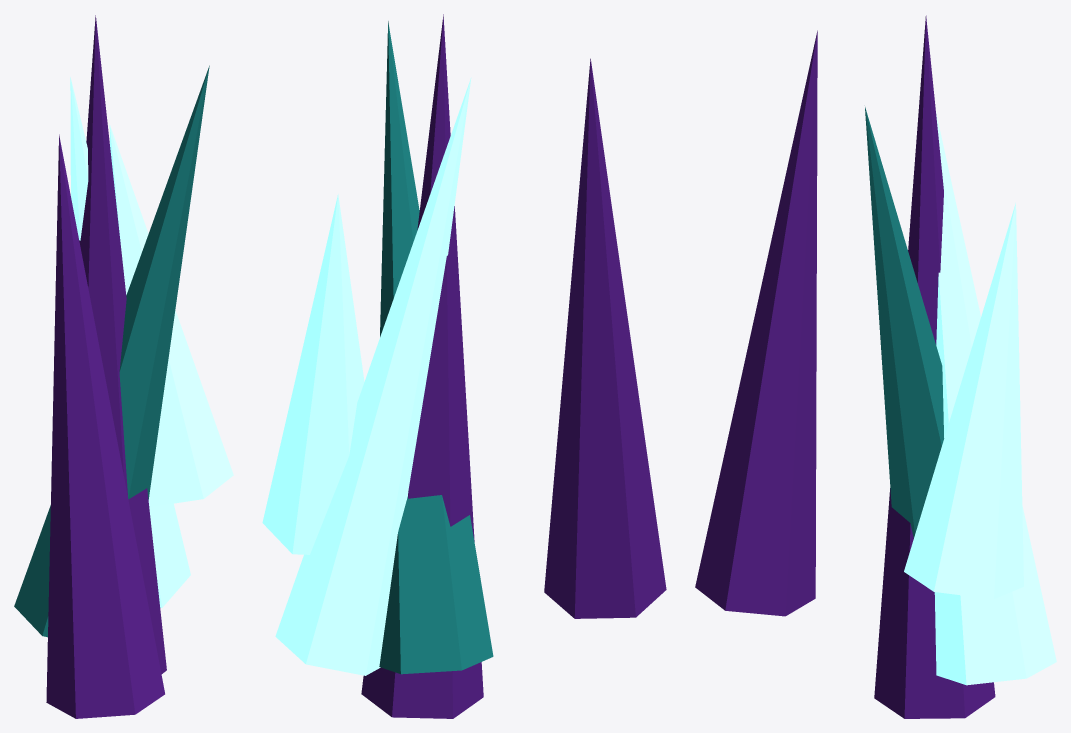
File: Prop_OR_Crystal_10.glb
3 renders of one model, left to right at view 1: azimuth 30°, elevation 25°; view 2: azimuth 150°, elevation 25°; view 3: azimuth 270°, elevation 25°, orthographic. The views are drawn at different scales.
Visible parts, largest first — view 1: Prop_OR_Crystal_10; view 2: Prop_OR_Crystal_10; view 3: Prop_OR_Crystal_10.
Part boxes in pixels (left/top/right/bottom): Prop_OR_Crystal_10: left=14, top=15, right=233, bottom=718; Prop_OR_Crystal_10: left=262, top=14, right=666, bottom=718; Prop_OR_Crystal_10: left=695, top=15, right=1056, bottom=718.
Size of the model in its own units: 0.6328 by 1.54 by 0.746.
